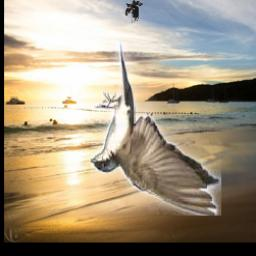Crow: (125, 0, 144, 23)
Swallow: (91, 41, 221, 216)
